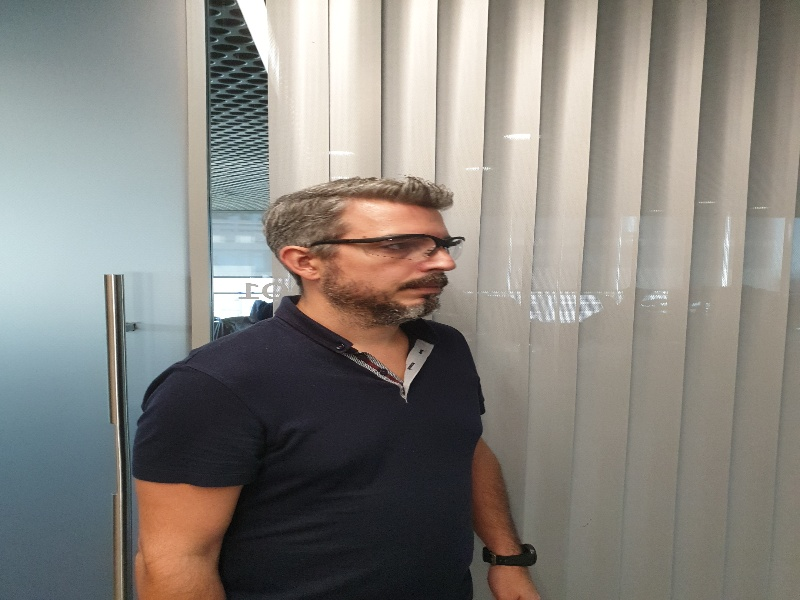Gozluk: (304, 234, 466, 260)
